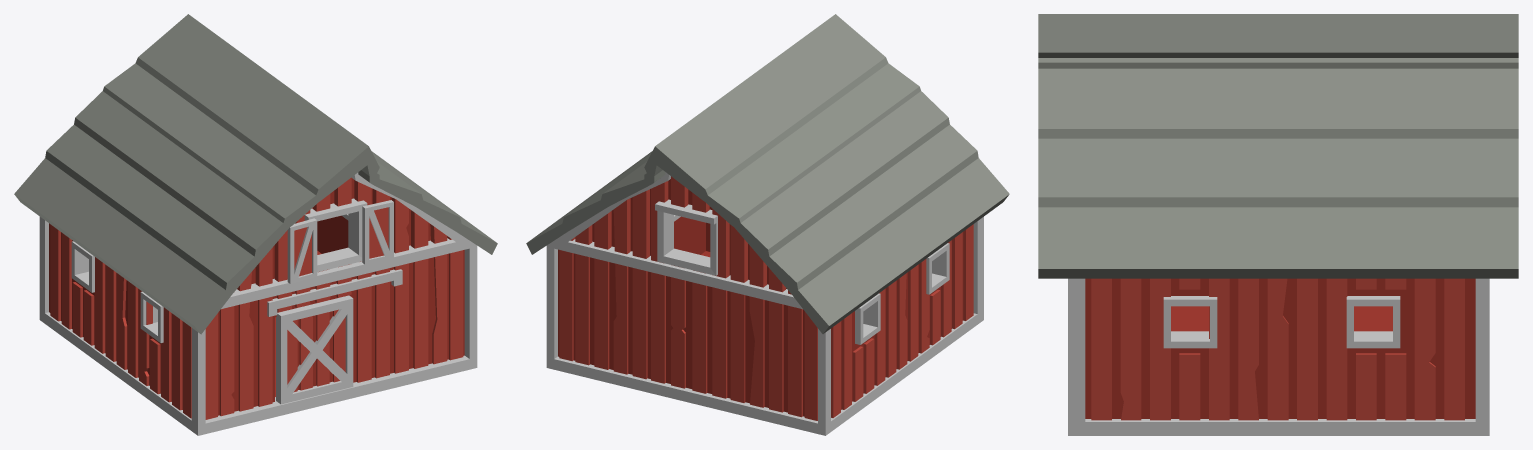
Rendered from small-barn.glb.
3 views of the same model, side by side, from view 1: azimuth 30°, elevation 25°; view 2: azimuth 150°, elevation 25°; view 3: azimuth 270°, elevation 25° (orthographic). The views are drawn at different scales.
Parts seen in each view (by area): view 1: Small_Barn, Small_Barn_Door, SmallBarn_Window, SmallBarn_Window2; view 2: Small_Barn; view 3: Small_Barn.
Part boxes in pixels (box(x1,y1,x2,y2)): Small_Barn: box(14, 14, 497, 435); Small_Barn_Door: box(276, 295, 353, 404); SmallBarn_Window: box(362, 200, 393, 264); SmallBarn_Window2: box(287, 218, 317, 283); Small_Barn: box(526, 14, 1009, 435); Small_Barn: box(1038, 14, 1518, 435).
Size of the model in its own units: 6.08 by 4.96 by 6.27.
